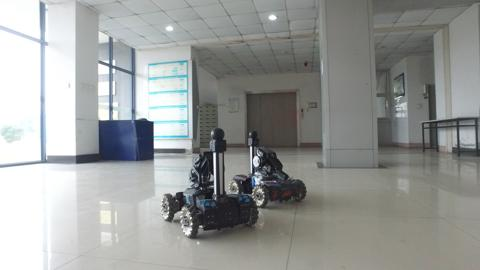chariot: (156, 127, 261, 241), (230, 129, 308, 212)
